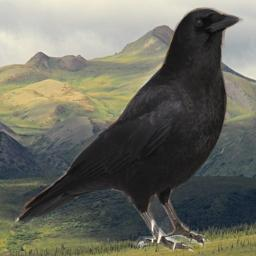Crow: (15, 3, 244, 253)
